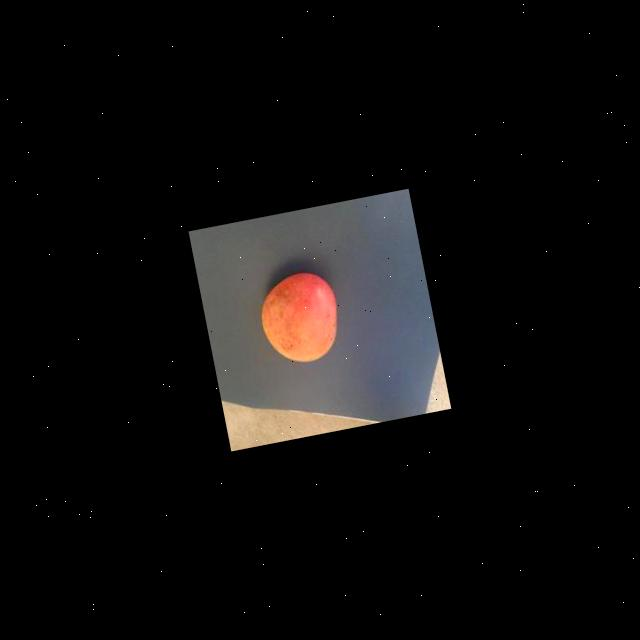Mango: (255, 267, 348, 370)
